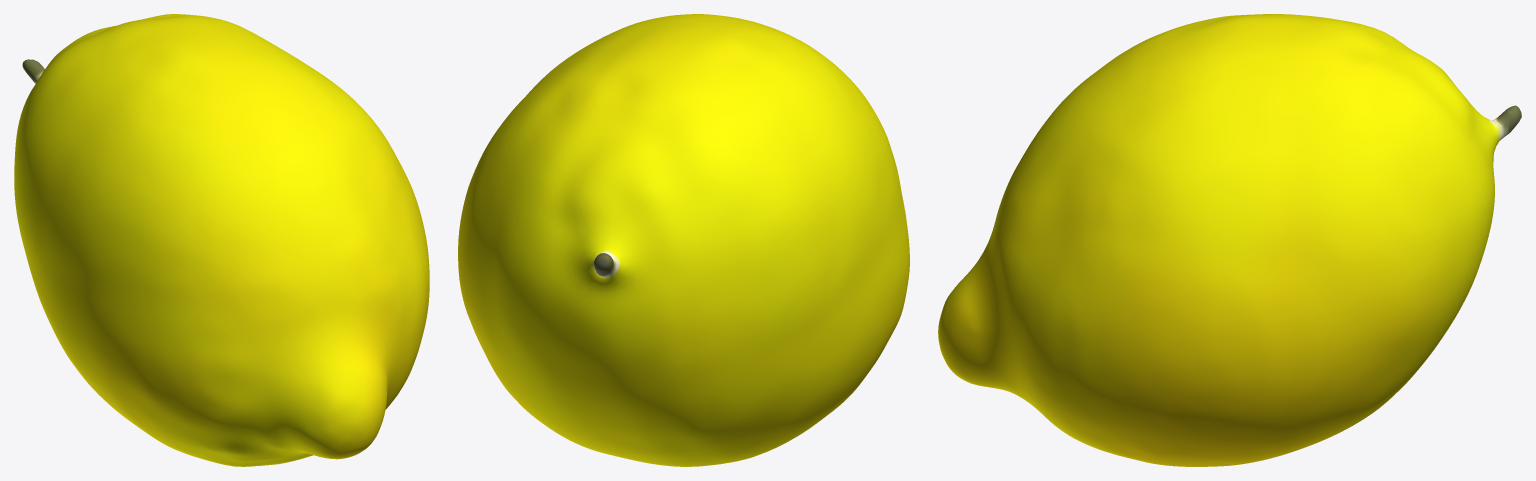
Rendered from lemon.glb.
3 renders of one model, left to right at view 1: azimuth 30°, elevation 25°; view 2: azimuth 150°, elevation 25°; view 3: azimuth 270°, elevation 25°, orthographic. The views are drawn at different scales.
Parts seen in each view (by area): view 1: model; view 2: model; view 3: model.
Boxes of the visible parts, x1,y1,x2,y2 form: model: (14,14,429,466); model: (458,14,909,466); model: (938,14,1521,466).
Size of the model in its own units: 0.0894 by 0.1 by 0.1295.
1 material, 1 textured.
